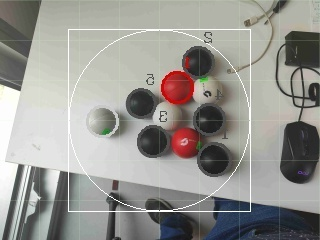Pelota blanca: (0, 0, 41, 90), (276, 31, 320, 108), (0, 79, 21, 165), (85, 105, 121, 138)
Pelota negra: (279, 121, 320, 184), (135, 123, 169, 159), (198, 141, 231, 178), (85, 105, 121, 138), (125, 87, 159, 120), (181, 45, 215, 78), (194, 103, 227, 135), (160, 213, 195, 240)
Pelota roja: (160, 69, 195, 105), (171, 125, 201, 160)
